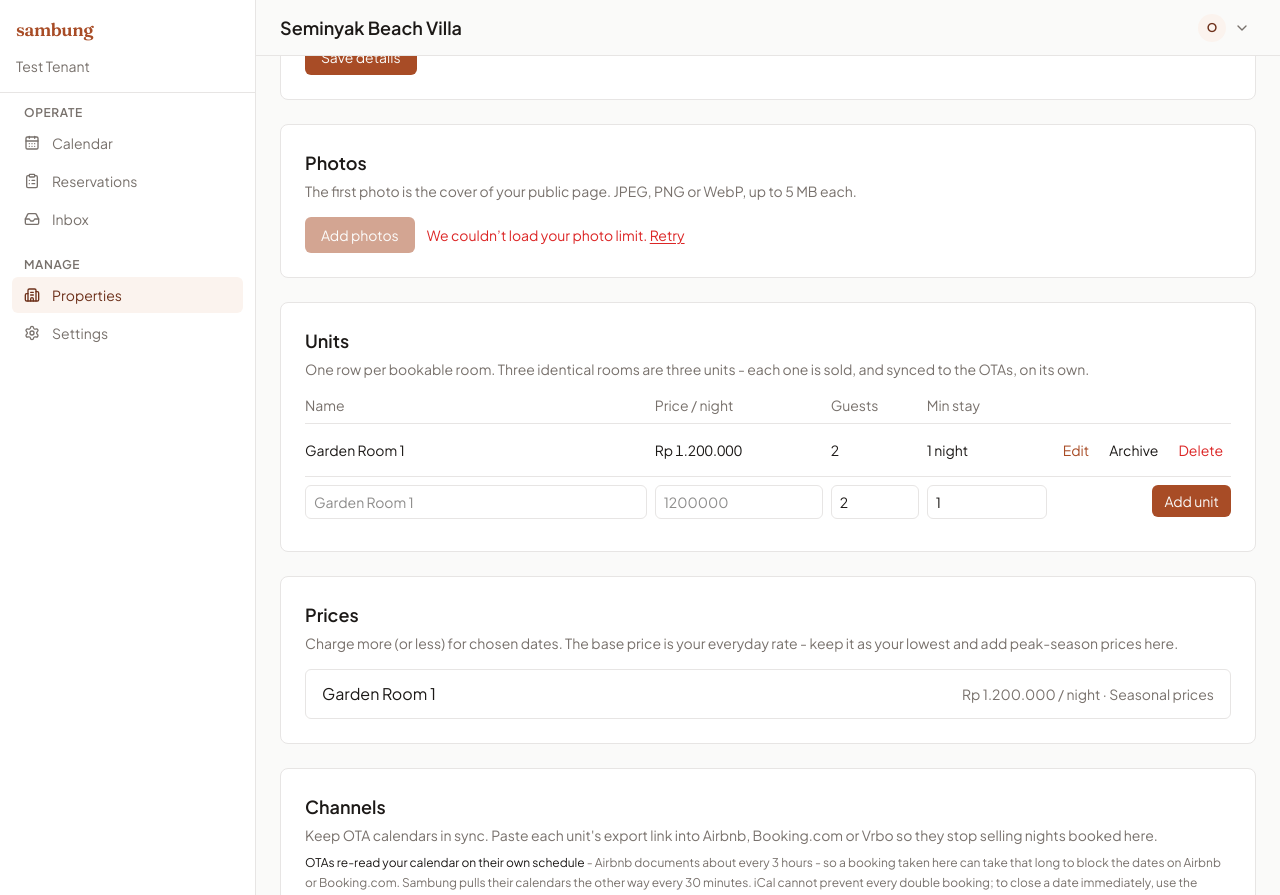
Test: units section (§4.5) › renders the delete 409 reason on the row
(page scrolled)
What coordinates should you click on to do the following:
click the button "Delete"
I would click on:
 (1201, 450)
Its box is 1170,436 -> 1231,464.
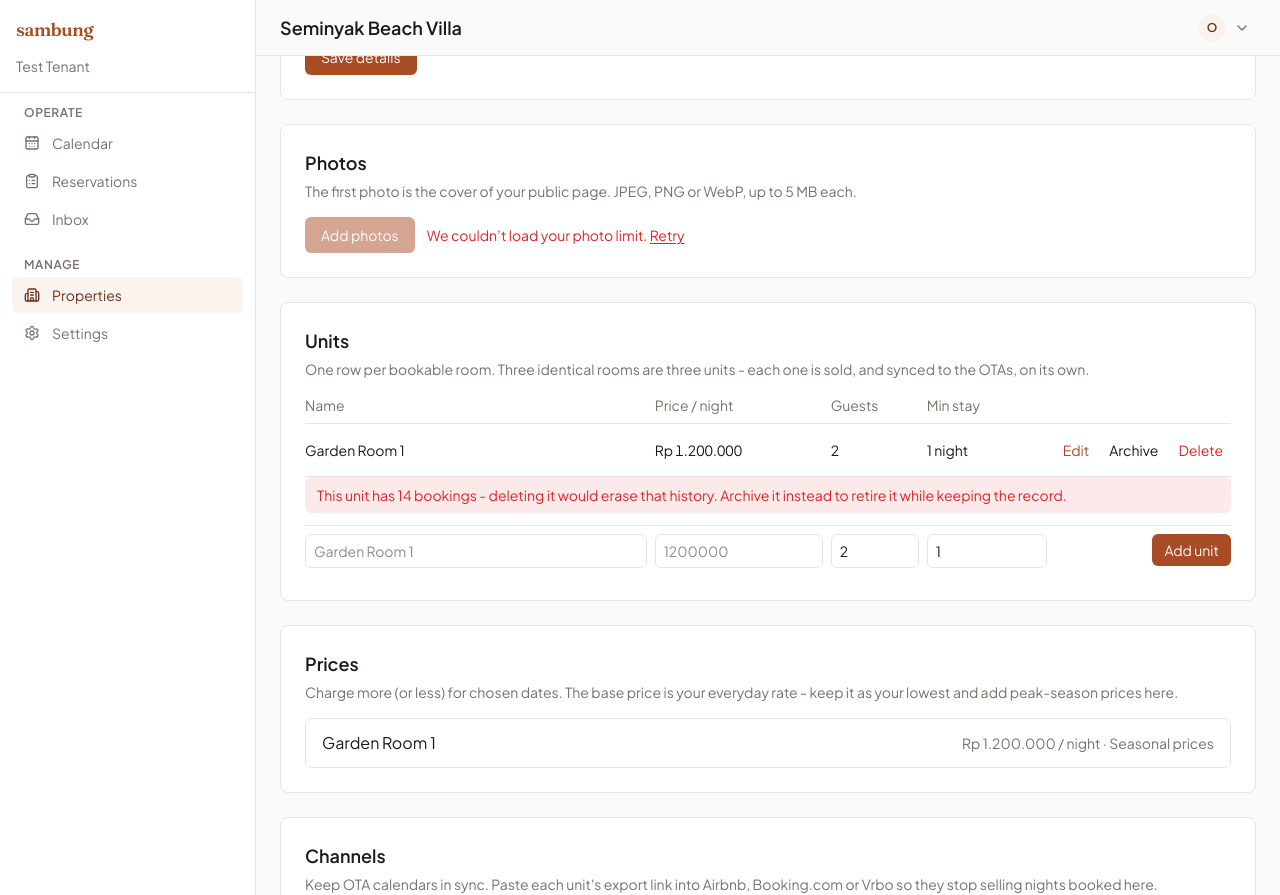
Expected: the text "This unit has 14 bookings" is shown, 317,486 -> 1067,504
